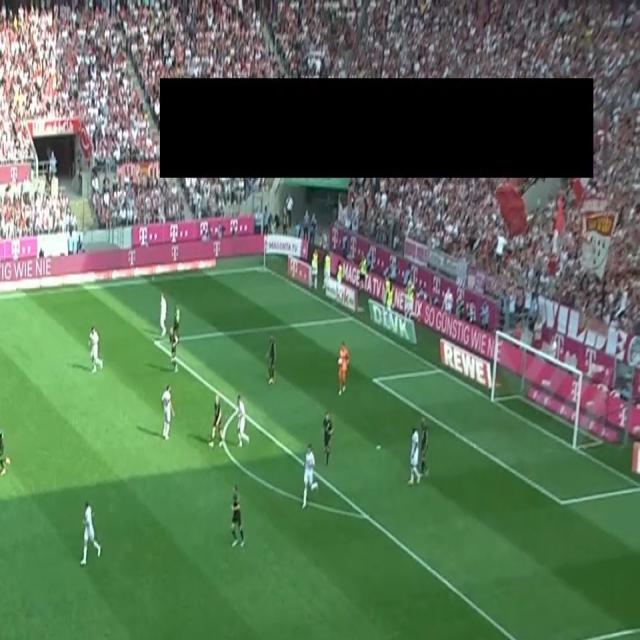ball: (338, 356, 343, 366)
